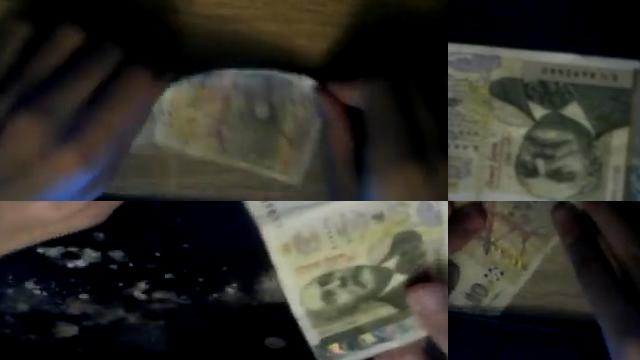10leva: (448, 42, 640, 201), (136, 66, 321, 185), (454, 201, 556, 315)
